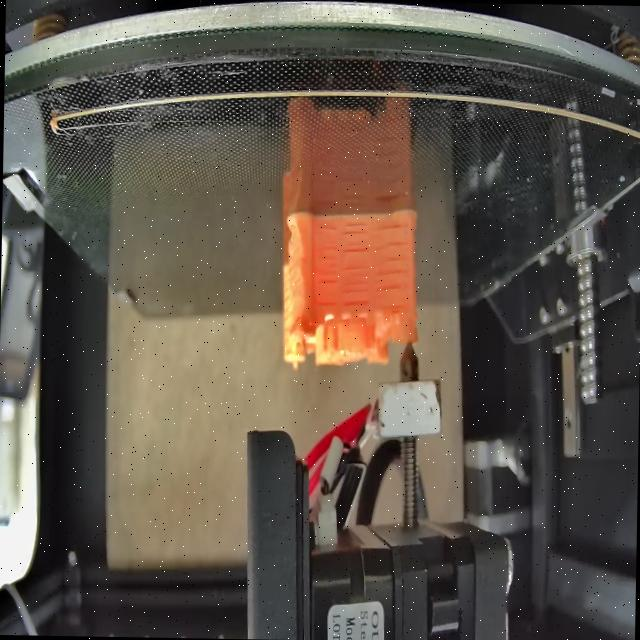cracks: (372, 221, 408, 296), (309, 216, 340, 286), (340, 262, 370, 304), (340, 222, 369, 255), (312, 294, 339, 308)
